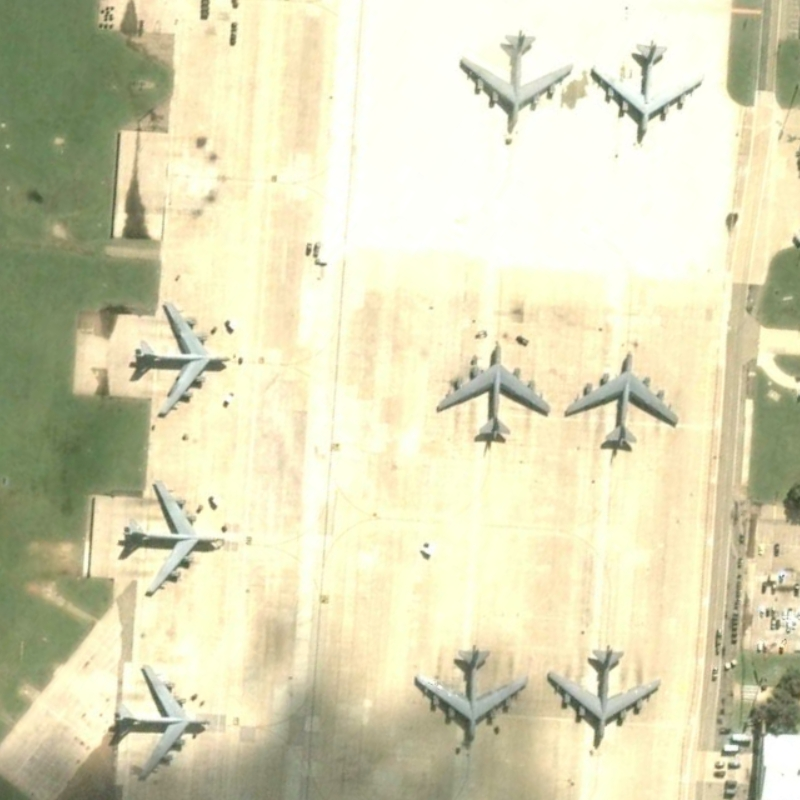A8: (113, 475, 228, 602), (453, 25, 578, 138), (103, 661, 214, 784), (559, 344, 683, 453), (588, 35, 710, 145), (431, 337, 555, 445), (126, 298, 233, 422), (543, 643, 667, 749), (407, 641, 533, 744)
